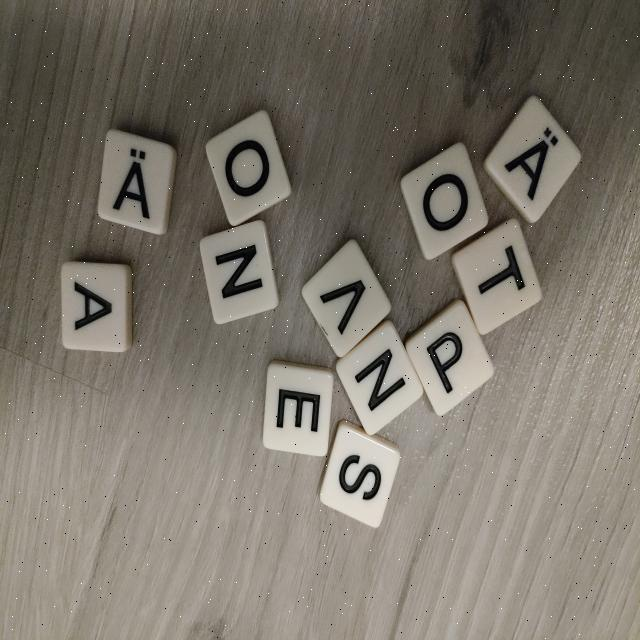a: (59, 258, 132, 351)
a_dot: (479, 89, 584, 226), (93, 126, 180, 237)
e: (259, 358, 334, 458)
n: (333, 317, 425, 439), (198, 220, 280, 328)
o: (396, 140, 491, 260), (202, 106, 293, 228)
p: (404, 296, 496, 420)
s: (315, 417, 403, 532)
t: (450, 216, 544, 336)
v: (298, 236, 392, 356)
